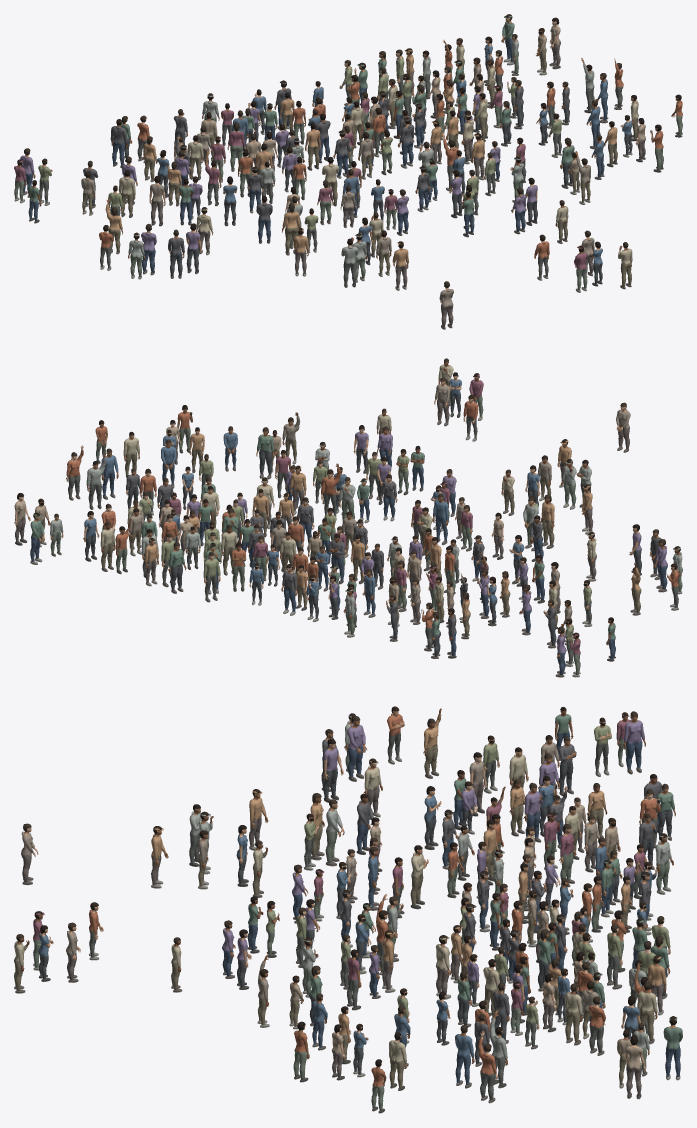
Rendered from contact-frontage.png.glb.
3 renders of one model, top to bottom at view 1: azimuth 30°, elevation 25°; view 2: azimuth 150°, elevation 25°; view 3: azimuth 270°, elevation 25°, orthographic. The views are drawn at different scales.
Parts seen in each view (by area): view 1: Runtime / REV15Z / REV15 / REV13A / Organic audience 141, Runtime / REV15Z / REV15 / REV13A / Organic audience 105, Runtime / REV15Z / REV15 / REV13A / Audience 05_04, Runtime / REV15Z / REV15 / REV13A / Organic audience 075, Runtime / REV15Z / REV15 / REV13A / Rev05B audience 157, Runtime / REV15Z / REV15 / REV13A / Rev05B audience 149, Runtime / REV15Z / REV15 / REV13A / Rev05B audience 159, Runtime / REV15Z / REV15 / REV13A / Audience 01_07, Runtime / REV15Z / REV15 / REV13A / Audience 02_02, Runtime / REV15Z / REV15 / REV13A / Organic audience 138, Runtime / REV15Z / REV15 / REV13A / Organic audience 104, Runtime / REV15Z / REV15 / REV13A / Organic audience 103 (+16 smaller); view 2: Runtime / REV15Z / REV15 / REV13A / Organic audience 049, Runtime / REV15Z / REV15 / REV13A / Rev05B audience 162, Runtime / REV15Z / REV15 / REV13A / Audience 04_05, Runtime / REV15Z / REV15 / REV13A / Audience 05_04, Runtime / REV15Z / REV15 / REV13A / Organic audience 092, Runtime / REV15Z / REV15 / REV13A / Organic audience 142, Runtime / REV15Z / REV15 / REV13A / Organic audience 143, Runtime / REV15Z / REV15 / REV13A / Rev05B audience 173, Runtime / REV15Z / REV15 / REV13A / Audience 02_07, Runtime / REV15Z / REV15 / REV13A / Rev05B audience 145, Runtime / REV15Z / REV15 / REV13A / Audience 00_03, Runtime / REV15Z / REV15 / REV13A / Rev05B audience 166 (+21 smaller); view 3: Runtime / REV15Z / REV15 / REV13A / Rev05B audience 160, Runtime / REV15Z / REV15 / REV13A / Rev05B audience 159, Runtime / REV15Z / REV15 / REV13A / Rev05B audience 171, Runtime / REV15Z / REV15 / REV13A / Rev05B audience 173, Runtime / REV15Z / REV15 / REV13A / Rev05B audience 149, Runtime / REV15Z / REV15 / REV13A / Organic audience 109, Runtime / REV15Z / REV15 / REV13A / Rev05B audience 166, Runtime / REV15Z / REV15 / REV13A / Rev05B audience 172, Runtime / REV15Z / REV15 / REV13A / Rev05B audience 152, Runtime / REV15Z / REV15 / REV13A / Rev05B audience 162, Runtime / REV15Z / REV15 / REV13A / Organic audience 082, Runtime / REV15Z / REV15 / REV13A / Rev05B audience 174 (+32 smaller).
Part boxes in pixels (x1,y1,x2,y2): Runtime / REV15Z / REV15 / REV13A / Organic audience 141: [397, 117, 414, 168]; Runtime / REV15Z / REV15 / REV13A / Organic audience 105: [149, 175, 165, 226]; Runtime / REV15Z / REV15 / REV13A / Audience 05_04: [282, 203, 300, 255]; Runtime / REV15Z / REV15 / REV13A / Organic audience 075: [110, 119, 127, 167]; Runtime / REV15Z / REV15 / REV13A / Rev05B audience 157: [168, 229, 184, 278]; Runtime / REV15Z / REV15 / REV13A / Rev05B audience 149: [186, 223, 201, 274]; Runtime / REV15Z / REV15 / REV13A / Rev05B audience 159: [141, 224, 156, 275]; Runtime / REV15Z / REV15 / REV13A / Audience 01_07: [392, 241, 408, 290]; Runtime / REV15Z / REV15 / REV13A / Audience 02_02: [341, 238, 358, 287]; Runtime / REV15Z / REV15 / REV13A / Organic audience 138: [118, 170, 135, 217]; Runtime / REV15Z / REV15 / REV13A / Organic audience 104: [227, 122, 245, 171]; Runtime / REV15Z / REV15 / REV13A / Organic audience 103: [333, 130, 351, 178]; Runtime / REV15Z / REV15 / REV13A / Organic audience 049: [256, 427, 274, 479]; Runtime / REV15Z / REV15 / REV13A / Rev05B audience 162: [86, 453, 106, 509]; Runtime / REV15Z / REV15 / REV13A / Audience 04_05: [321, 463, 340, 517]; Runtime / REV15Z / REV15 / REV13A / Audience 05_04: [540, 494, 554, 548]; Runtime / REV15Z / REV15 / REV13A / Organic audience 092: [168, 542, 186, 593]; Runtime / REV15Z / REV15 / REV13A / Organic audience 142: [281, 564, 297, 615]; Runtime / REV15Z / REV15 / REV13A / Organic audience 143: [203, 552, 220, 602]; Runtime / REV15Z / REV15 / REV13A / Rev05B audience 173: [66, 445, 83, 500]; Runtime / REV15Z / REV15 / REV13A / Audience 02_07: [432, 493, 448, 545]; Runtime / REV15Z / REV15 / REV13A / Rev05B audience 145: [100, 521, 115, 571]; Runtime / REV15Z / REV15 / REV13A / Audience 00_03: [434, 377, 450, 426]; Runtime / REV15Z / REV15 / REV13A / Rev05B audience 166: [101, 448, 118, 499]; Runtime / REV15Z / REV15 / REV13A / Rev05B audience 160: [623, 711, 645, 774]; Runtime / REV15Z / REV15 / REV13A / Rev05B audience 159: [347, 715, 366, 781]; Runtime / REV15Z / REV15 / REV13A / Rev05B audience 171: [625, 1035, 645, 1099]; Runtime / REV15Z / REV15 / REV13A / Rev05B audience 173: [478, 1031, 497, 1103]; Runtime / REV15Z / REV15 / REV13A / Rev05B audience 149: [323, 739, 343, 802]; Runtime / REV15Z / REV15 / REV13A / Organic audience 109: [565, 983, 582, 1045]; Runtime / REV15Z / REV15 / REV13A / Rev05B audience 166: [455, 1024, 474, 1088]; Runtime / REV15Z / REV15 / REV13A / Rev05B audience 172: [663, 1016, 682, 1080]; Runtime / REV15Z / REV15 / REV13A / Rev05B audience 152: [423, 708, 441, 778]; Runtime / REV15Z / REV15 / REV13A / Rev05B audience 162: [489, 1010, 507, 1088]; Runtime / REV15Z / REV15 / REV13A / Organic audience 082: [655, 833, 673, 894]; Runtime / REV15Z / REV15 / REV13A / Rev05B audience 174: [389, 1032, 406, 1090].
Bounding box in the file's own units: 24.49 × 2.36 × 19.36.
